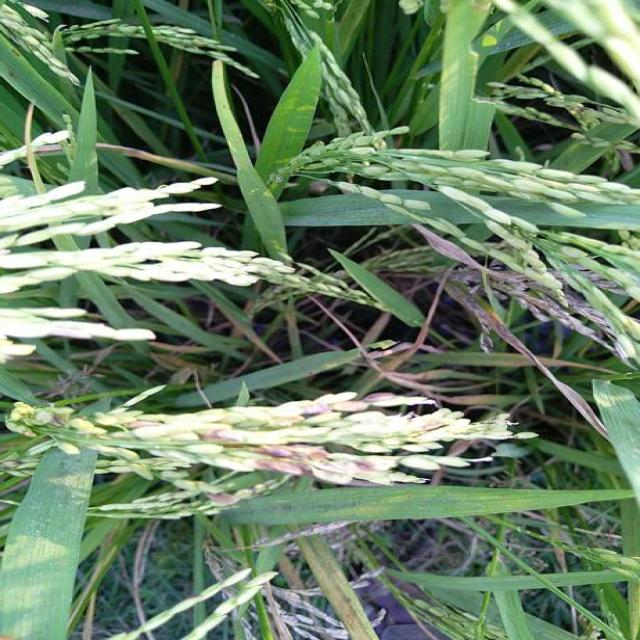Panicle Blight: (244, 459, 303, 477), (301, 400, 331, 419), (363, 391, 403, 405), (122, 420, 168, 431), (204, 491, 235, 507), (252, 446, 292, 458), (199, 428, 227, 445), (295, 461, 314, 477), (353, 460, 373, 472), (314, 449, 327, 460)
